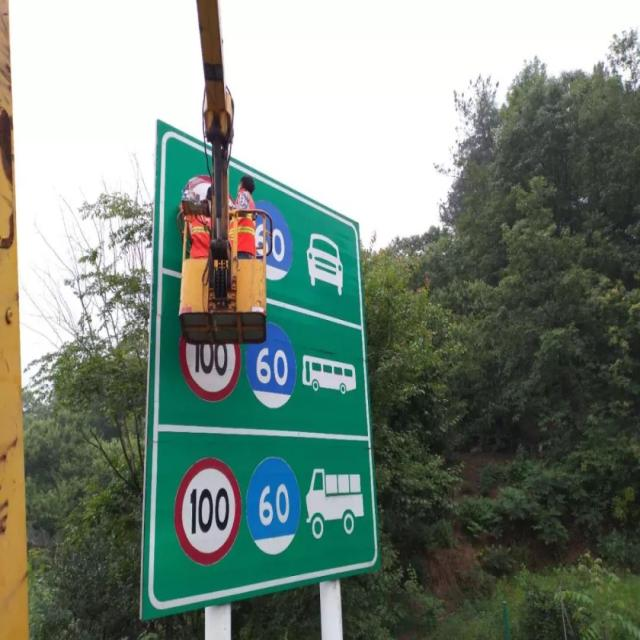speed limit 100: (173, 458, 241, 566), (177, 327, 243, 403)
speed limit 60: (247, 459, 303, 558), (247, 321, 297, 409)
